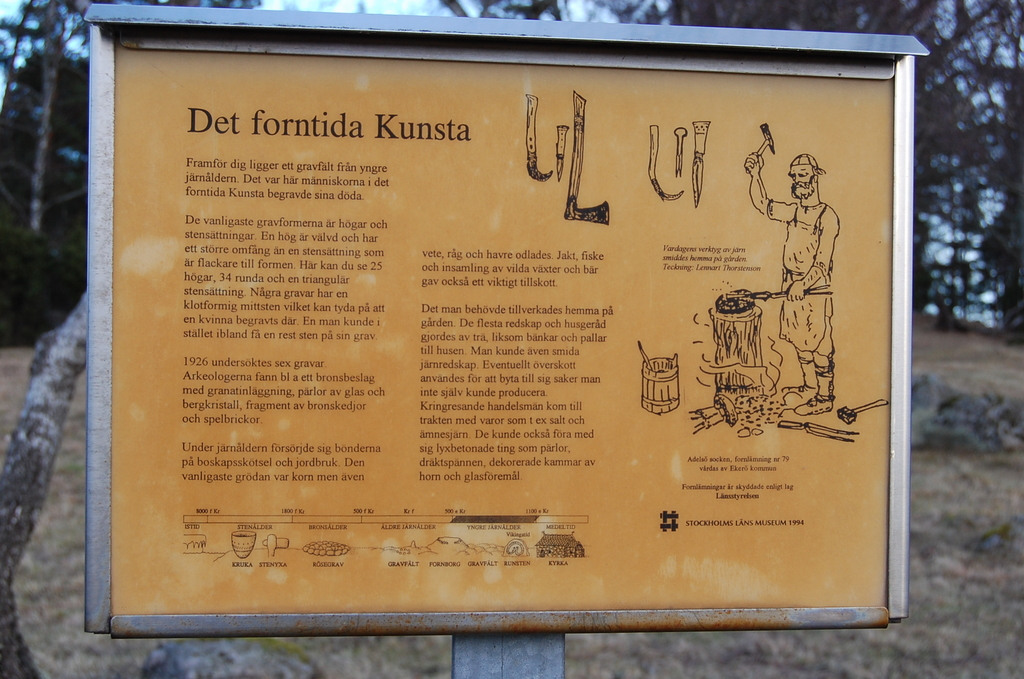Tree: (370, 0, 1023, 352), (0, 0, 261, 351), (0, 269, 94, 678)
